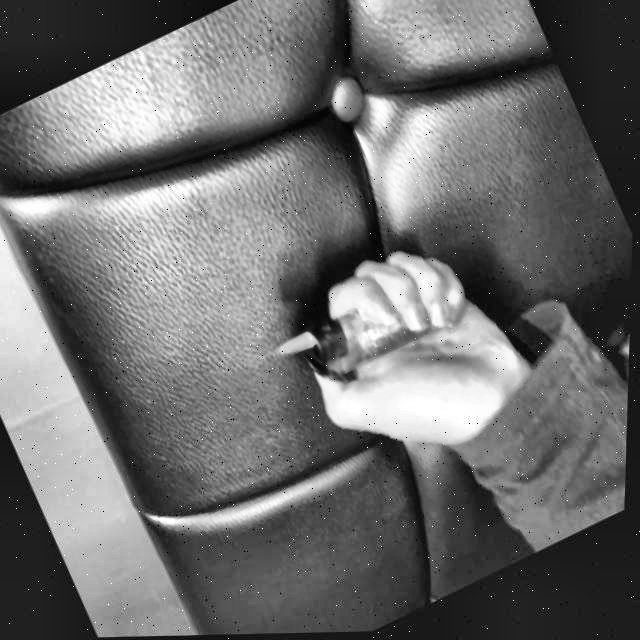Fire: (272, 331, 319, 367)
